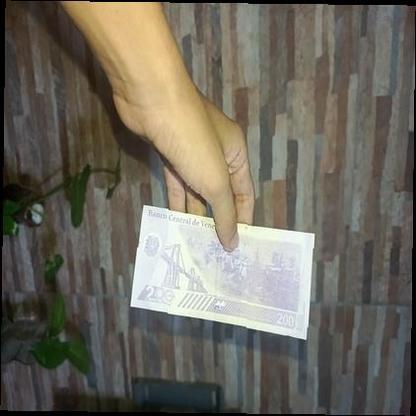vef_back: (130, 203, 316, 341)
